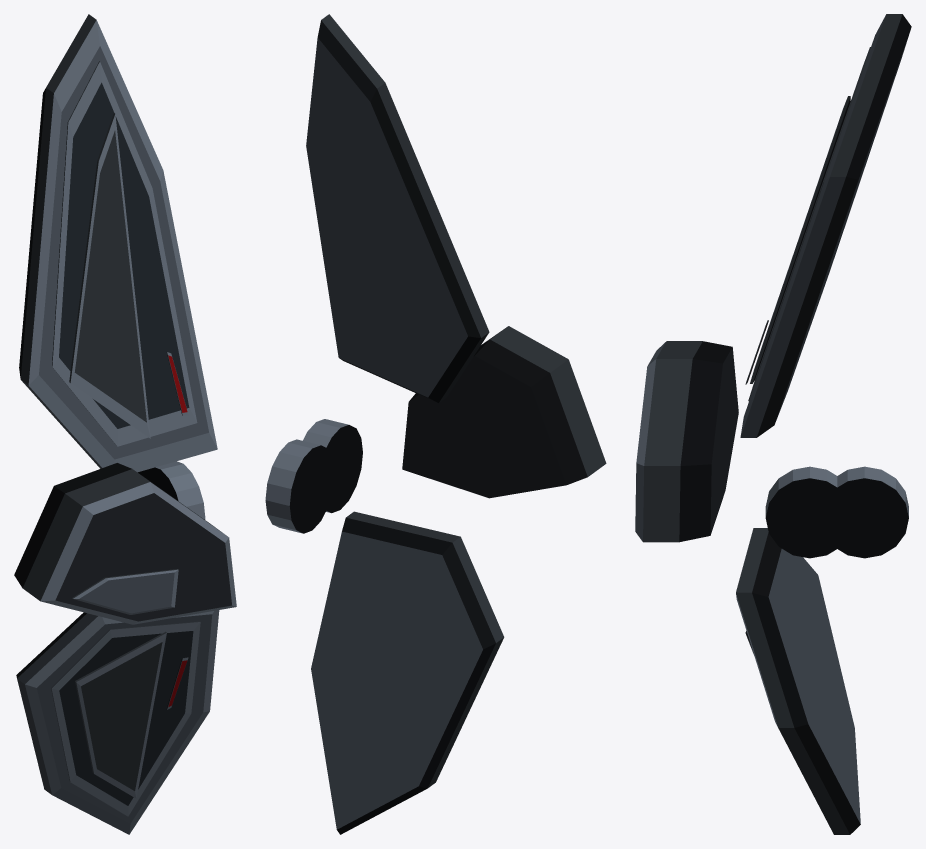
Rendered from VeilWingLeft.obj.
3 renders of one model, left to right at view 1: azimuth 30°, elevation 25°; view 2: azimuth 150°, elevation 25°; view 3: azimuth 270°, elevation 25°, orthographic. The views are drawn at different scales.
Parts seen in each view (by area): view 1: swept_blade, blade_inset, load_bearing_ridge, armoured_outrigger, outrigger_cheek, wing_root_bearing, short_power_slit; view 2: swept_blade, armoured_outrigger, wing_root_bearing; view 3: swept_blade, armoured_outrigger, wing_root_bearing, load_bearing_ridge, blade_inset.
Boxes of the visible parts, x1,y1,x2,y2 form: swept_blade: [16, 14, 219, 834]; blade_inset: [51, 61, 200, 816]; load_bearing_ridge: [69, 113, 166, 798]; armoured_outrigger: [14, 463, 236, 624]; outrigger_cheek: [72, 569, 178, 614]; wing_root_bearing: [138, 461, 205, 519]; short_power_slit: [166, 352, 188, 709]; swept_blade: [306, 14, 504, 834]; armoured_outrigger: [402, 326, 606, 498]; wing_root_bearing: [265, 419, 362, 533]; swept_blade: [736, 14, 911, 834]; armoured_outrigger: [635, 341, 738, 542]; wing_root_bearing: [765, 466, 908, 558]; load_bearing_ridge: [750, 96, 850, 383]; blade_inset: [748, 47, 870, 401].
Size of the model in its own units: 1.24 by 4.28 by 1.31.
